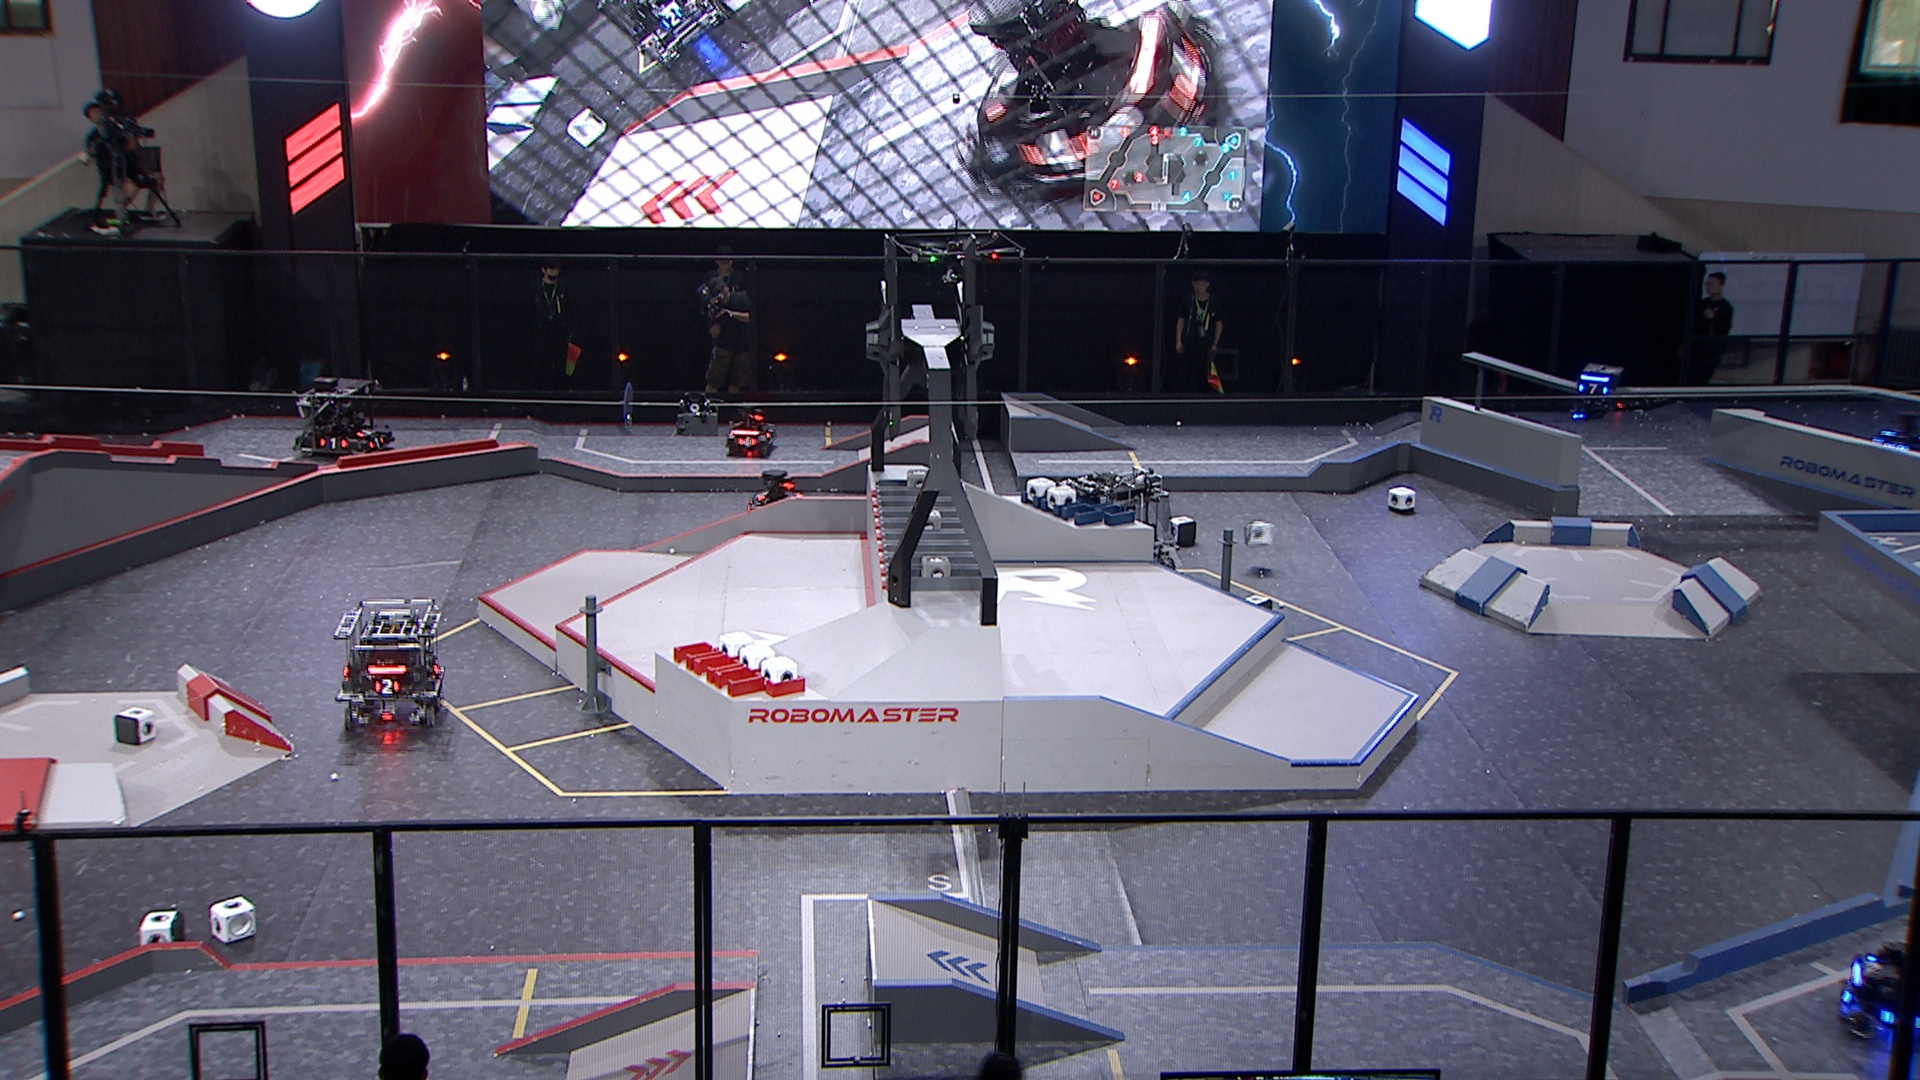armor: (315, 433, 351, 456), (1576, 380, 1610, 400), (371, 676, 400, 695), (365, 431, 389, 452), (353, 422, 382, 439), (429, 655, 446, 678), (752, 487, 770, 502), (737, 434, 757, 447)
car: (335, 597, 448, 737), (1067, 469, 1179, 585), (1837, 935, 1920, 1048), (294, 373, 396, 458), (1865, 404, 1920, 472), (746, 469, 814, 524), (719, 405, 781, 454)
ignore: (603, 0, 724, 73)
watcher: (1565, 357, 1625, 419)
